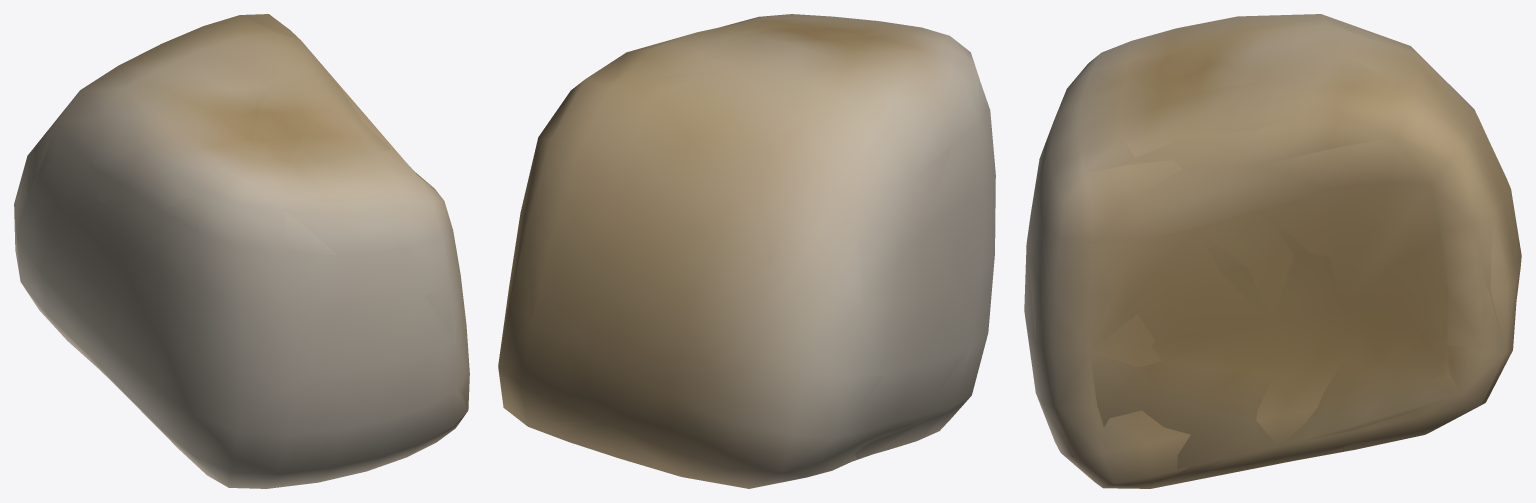
The model's file is L carpi radiale.fbx.
3 views of the same model, side by side, from view 1: azimuth 30°, elevation 25°; view 2: azimuth 150°, elevation 25°; view 3: azimuth 270°, elevation 25° (orthographic). The views are drawn at different scales.
Visible parts, largest first — view 1: L carpi radiale, L carpi radiale low; view 2: L carpi radiale, L carpi radiale low; view 3: L carpi radiale, L carpi radiale low.
Part boxes in pixels (box(x1,y1,x2,y2)): L carpi radiale: box(14, 14, 469, 488); L carpi radiale low: box(17, 14, 468, 486); L carpi radiale: box(498, 14, 995, 488); L carpi radiale low: box(501, 16, 989, 486); L carpi radiale: box(1024, 14, 1521, 488); L carpi radiale low: box(1029, 14, 1514, 488).
Bounding box in the file's own units: 0.8787 × 1.02 × 1.18.
